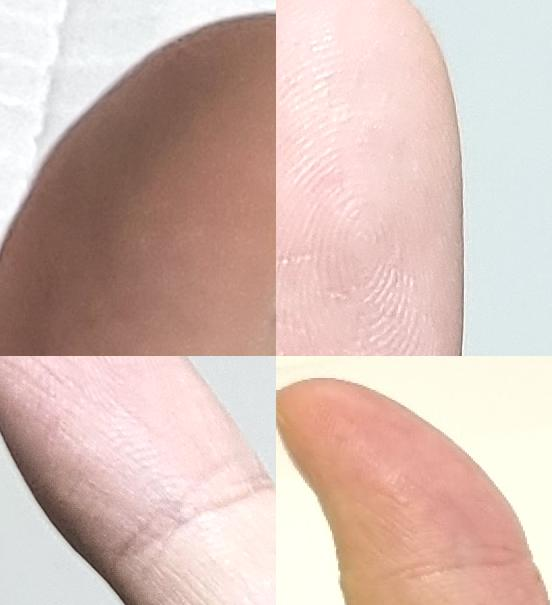Fingerprints: (0, 12, 276, 356), (276, 0, 464, 356), (277, 376, 535, 571)
